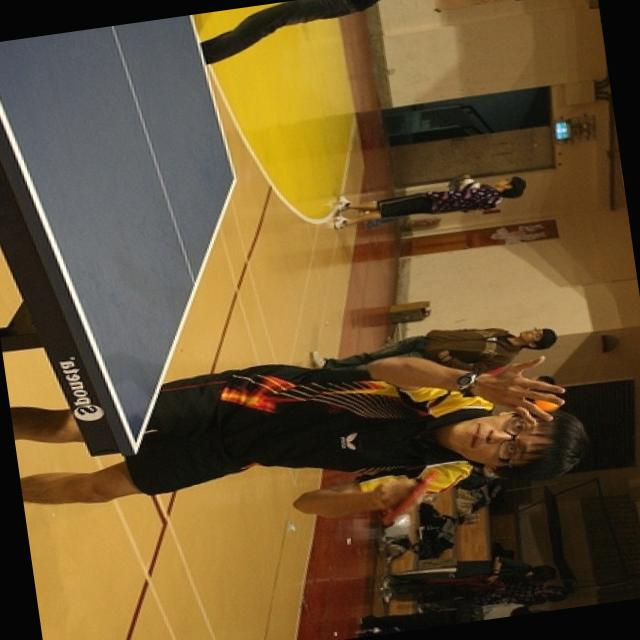TT Racket: (370, 457, 447, 541)
TT Table: (0, 0, 331, 453)
